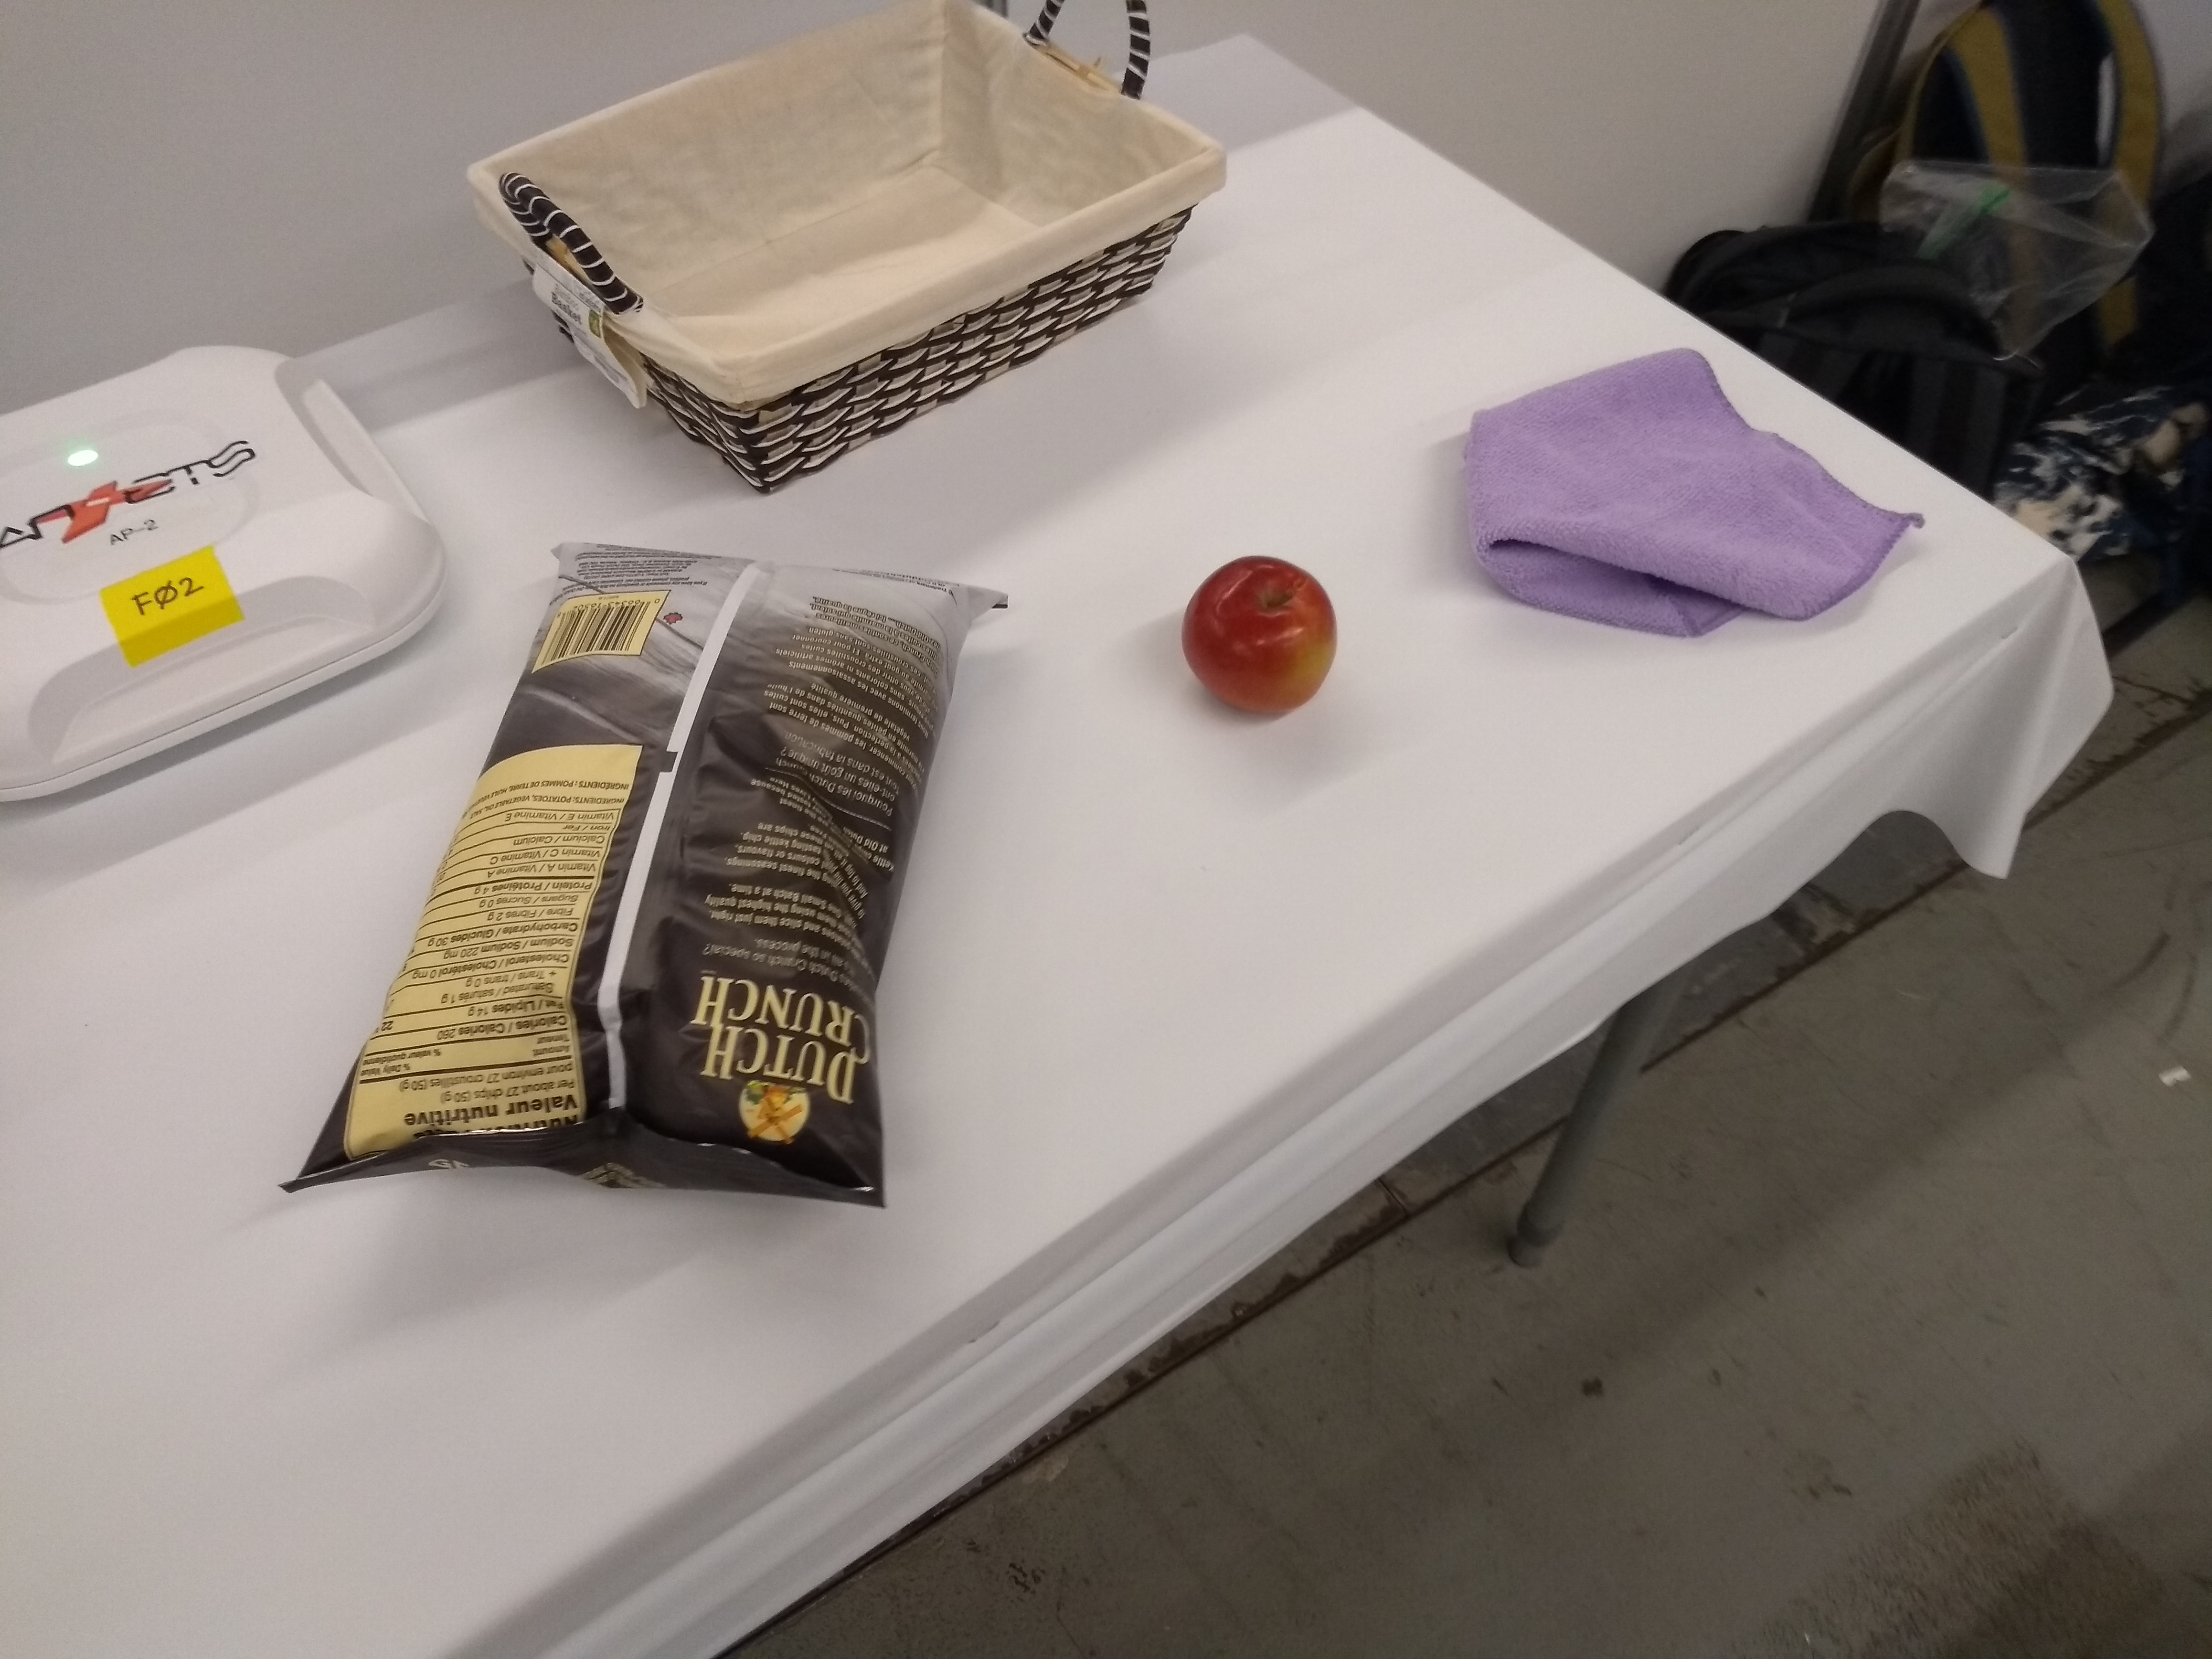apple: (1174, 544, 1346, 725)
cloth_opl: (1453, 340, 1925, 643)
potato_chips: (268, 519, 1019, 1239)
